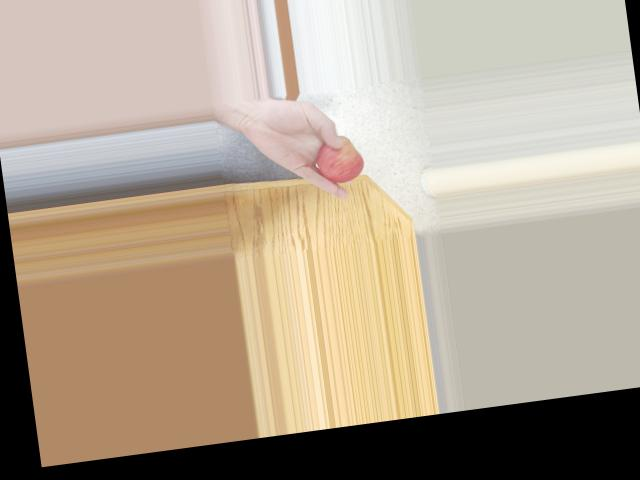apple: (307, 131, 370, 187)
